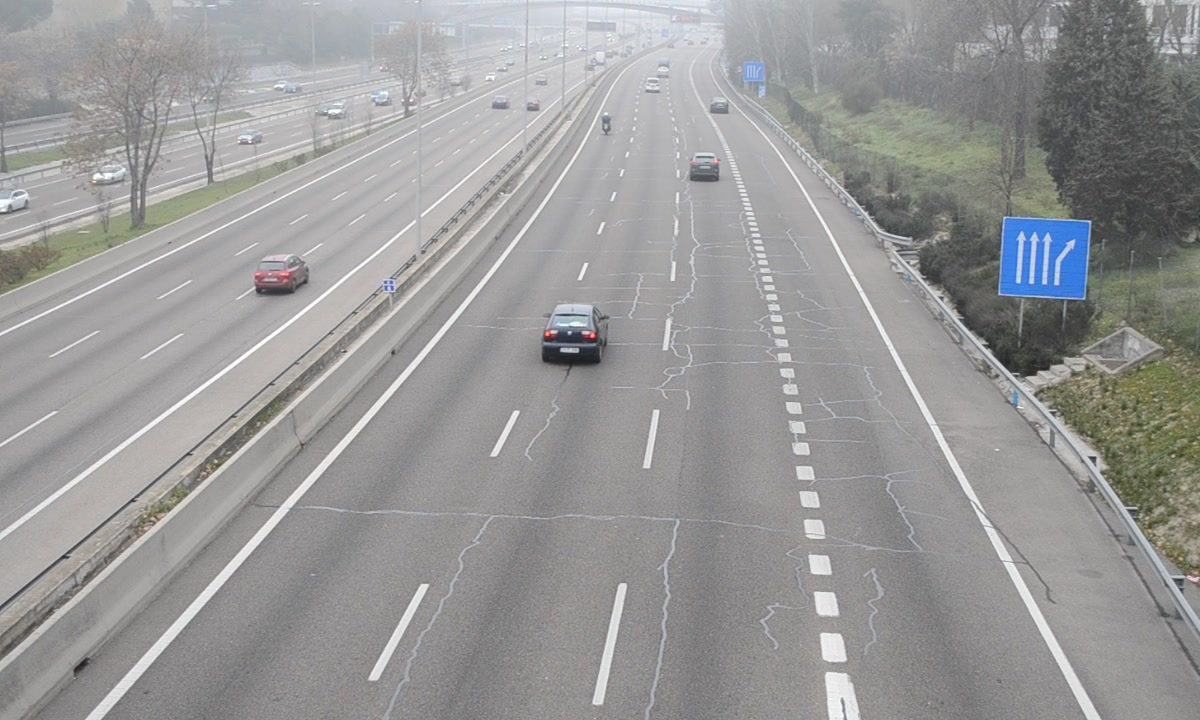car: (543, 304, 607, 365), (688, 152, 721, 183)
motorcycle: (602, 110, 612, 137)
